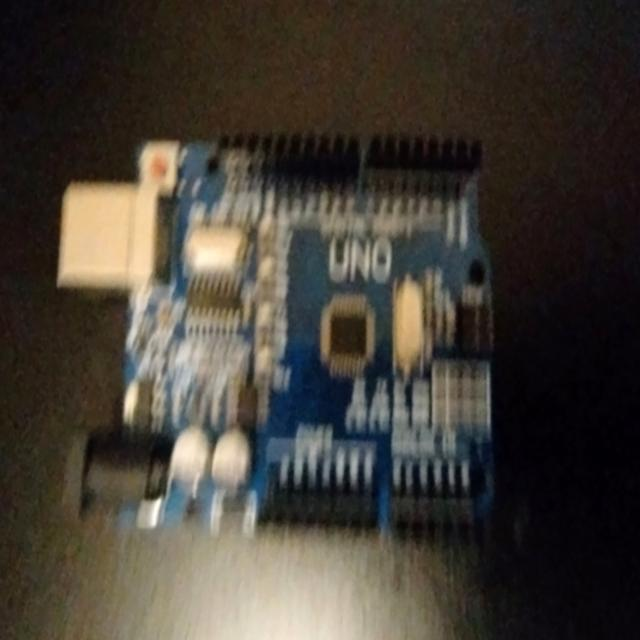arduino: (98, 114, 505, 552)
